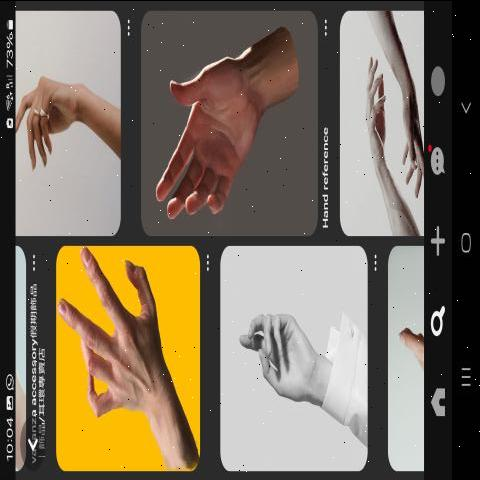Hands: (149, 17, 291, 226), (54, 242, 186, 442), (226, 258, 340, 420), (23, 63, 112, 170), (348, 46, 390, 180), (396, 77, 428, 207)
